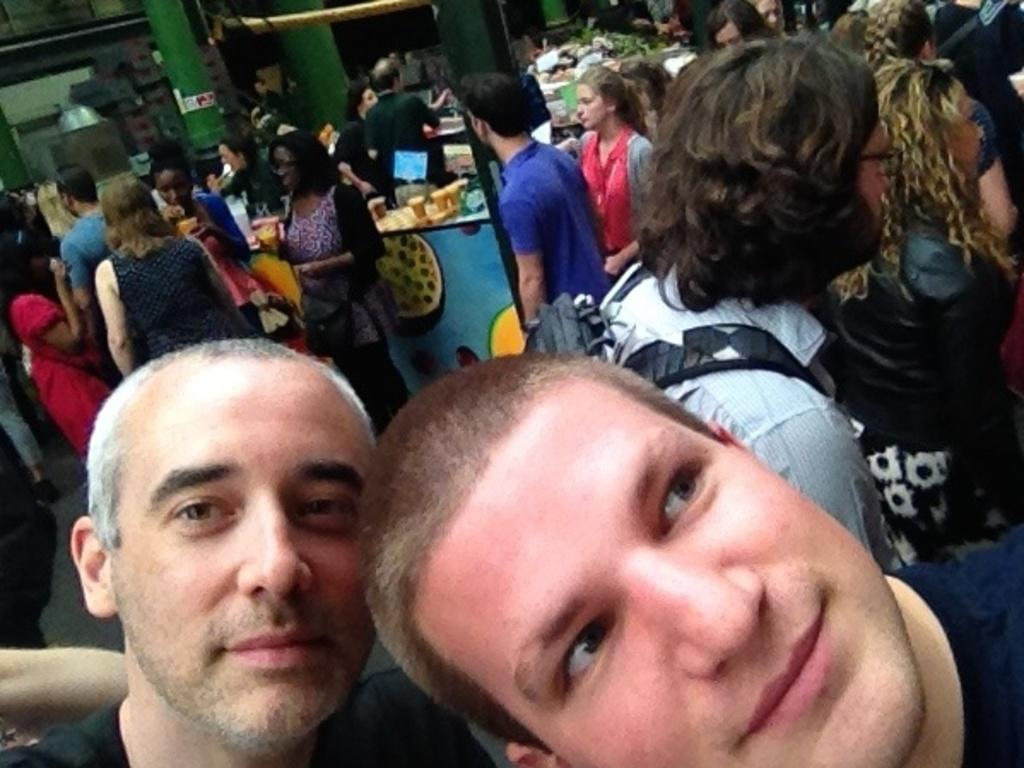Sem Máscara: (416, 387, 922, 765), (109, 382, 370, 736), (949, 88, 979, 184), (858, 125, 887, 215), (574, 83, 607, 125), (157, 167, 188, 205), (269, 145, 295, 184), (716, 22, 741, 45), (755, 0, 779, 21), (219, 144, 237, 166), (362, 84, 375, 104)
